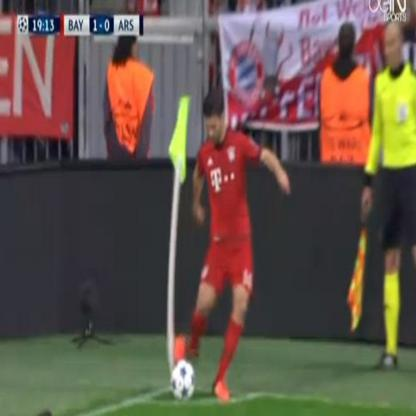corner kick: (158, 76, 290, 411)
